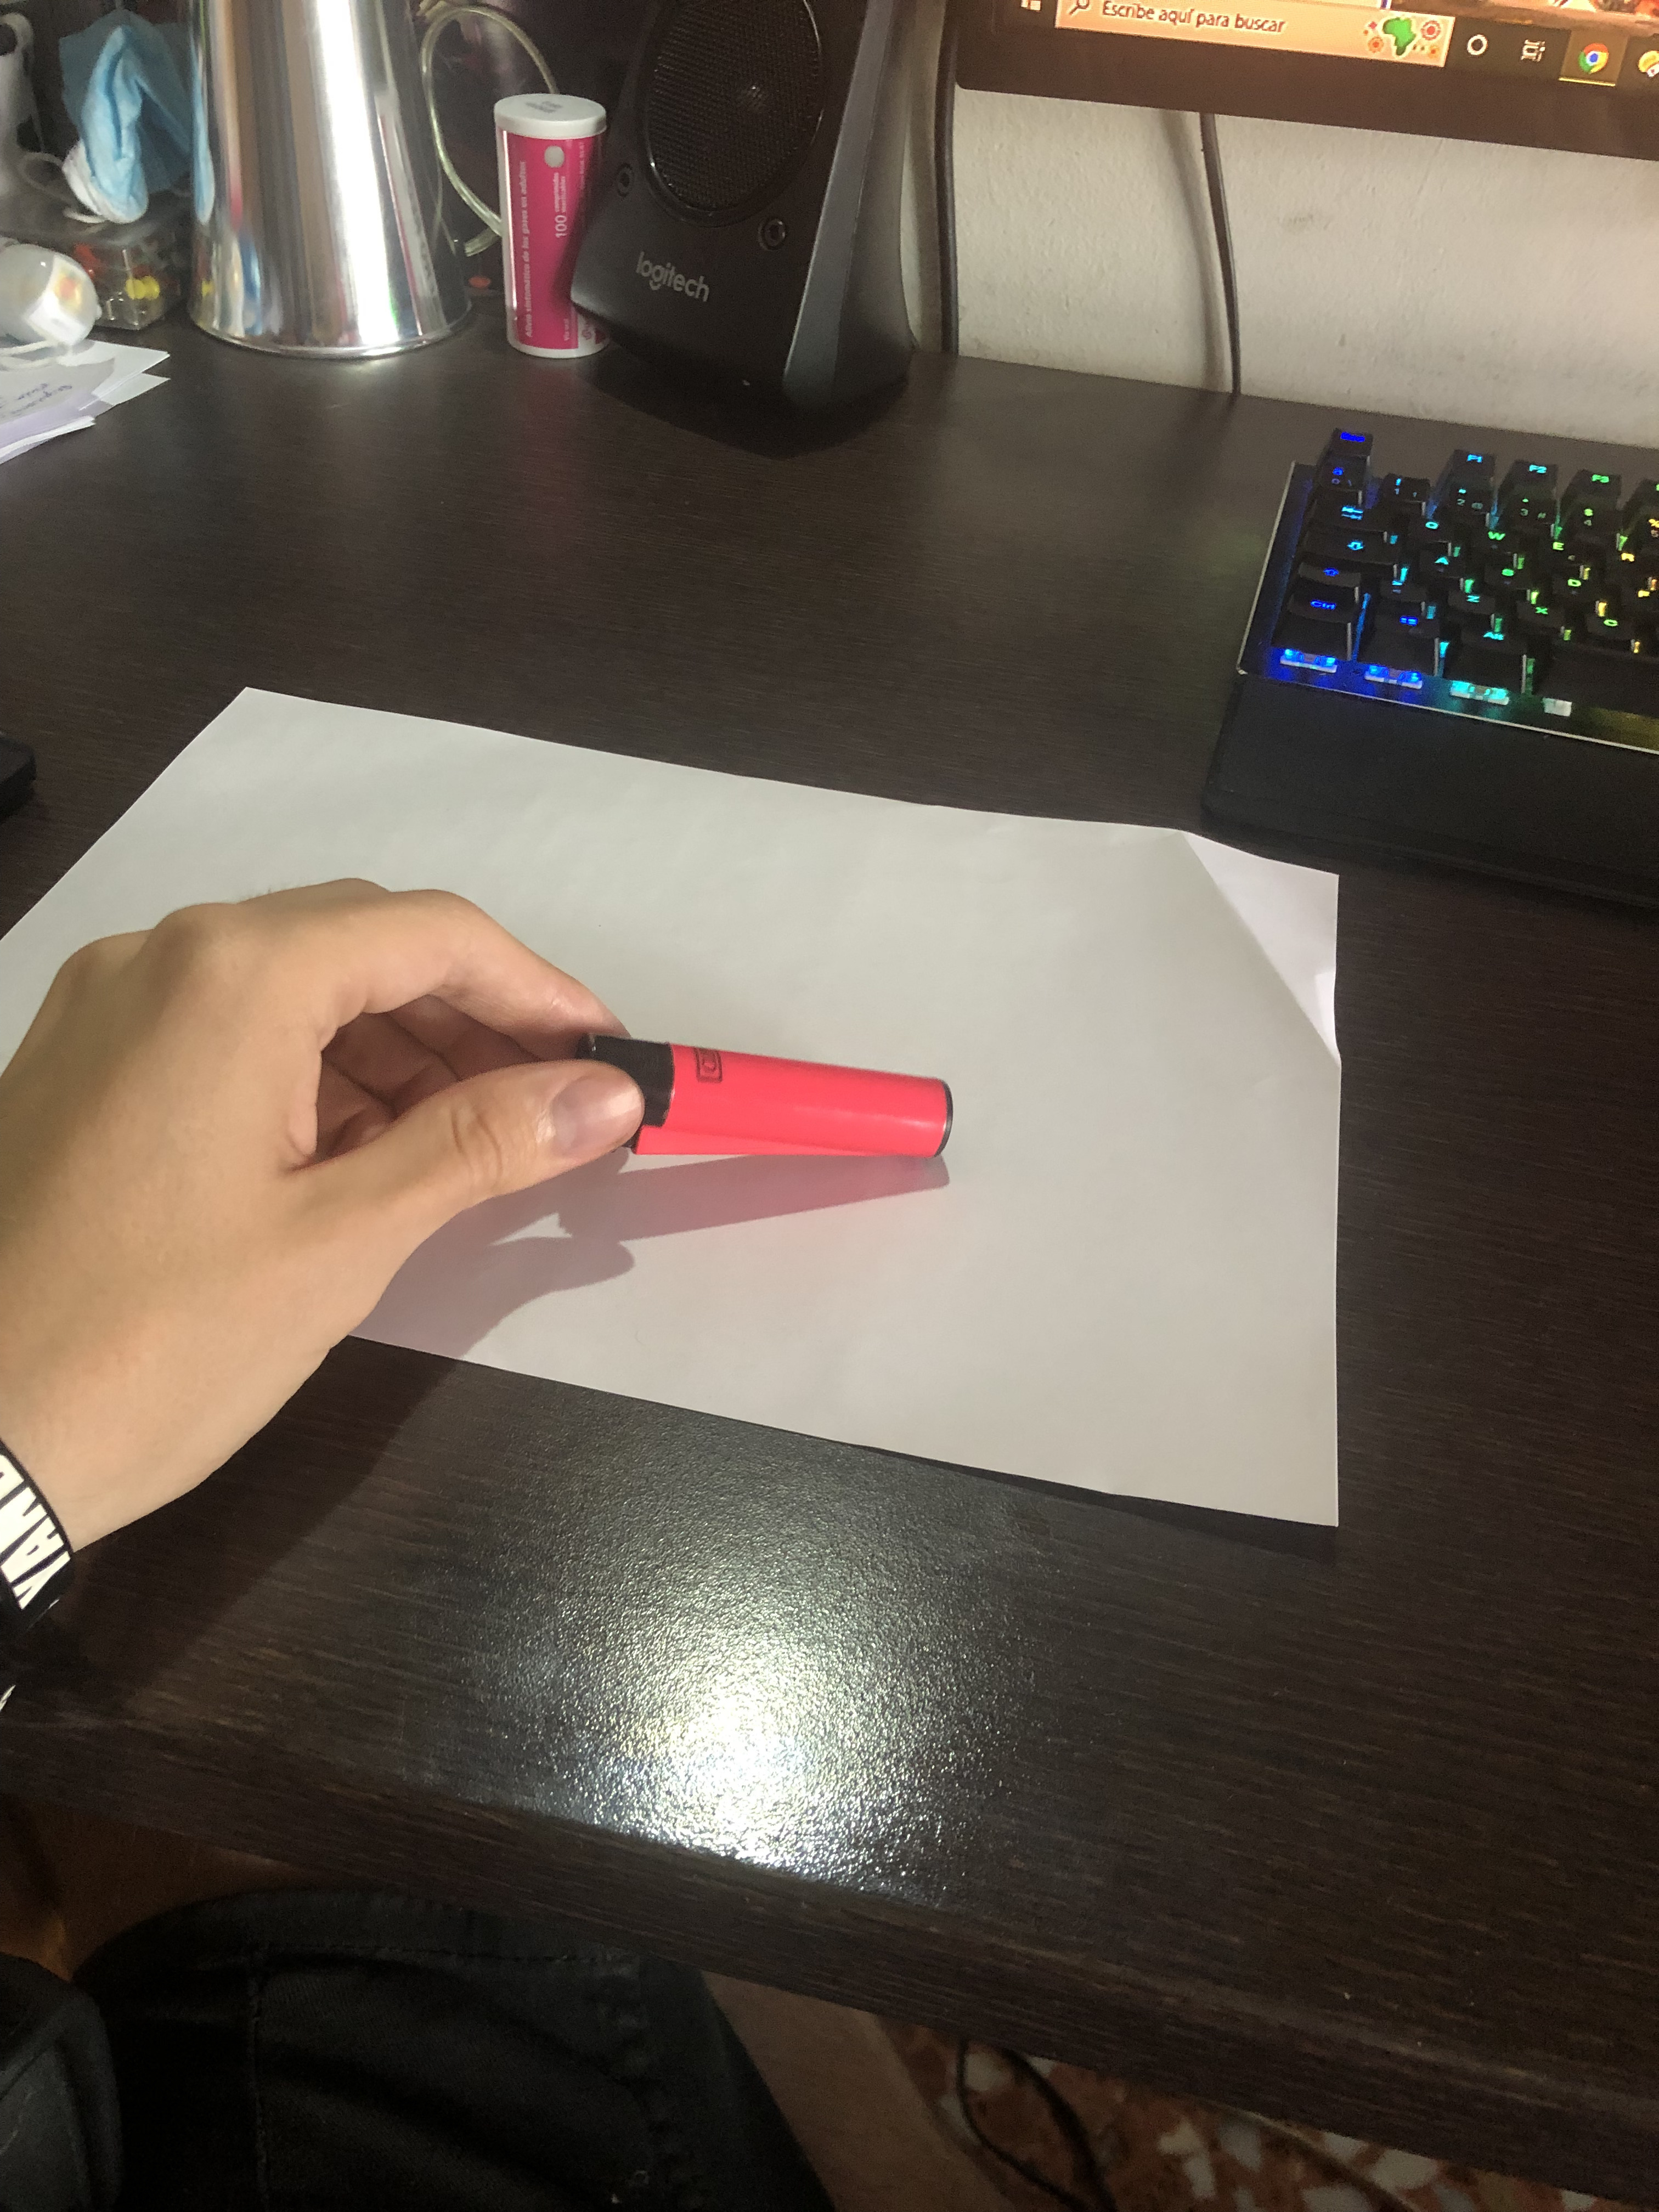Mechero: (493, 1015, 1025, 1160)
